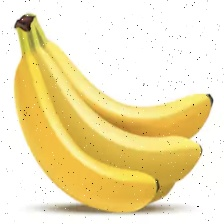banana: (24, 29, 171, 184)
